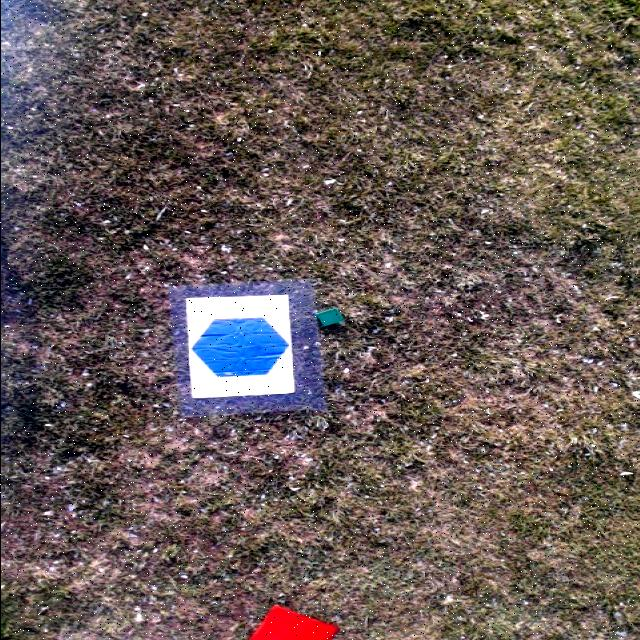blue_hexagon: (192, 318, 289, 376)
